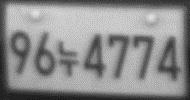4: (155, 34, 182, 82), (82, 33, 107, 78)
6: (33, 29, 56, 76)
7: (131, 34, 154, 81), (107, 34, 130, 79)
9: (9, 30, 32, 75)
누: (57, 39, 81, 78)
